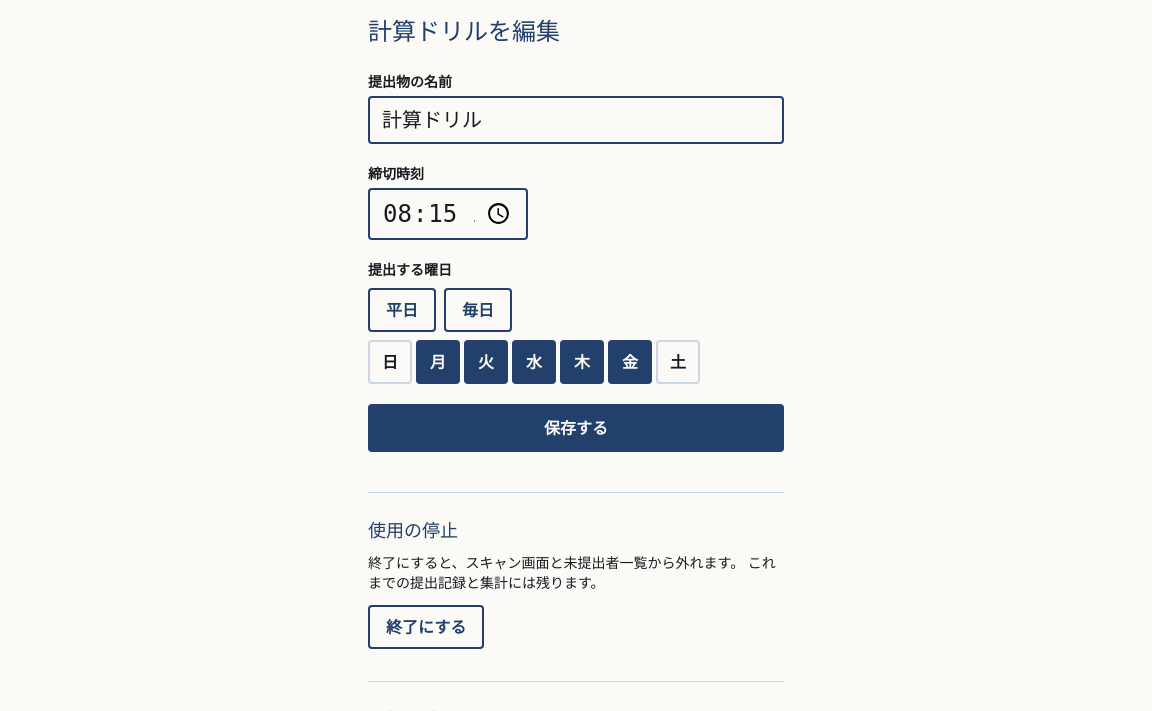
Test: 終了 › 確認してから終了にする
This screenshot has width=1152, height=711.
Click the button "終了にする" at (426, 627), box x1=368 y1=605 x2=484 y2=649
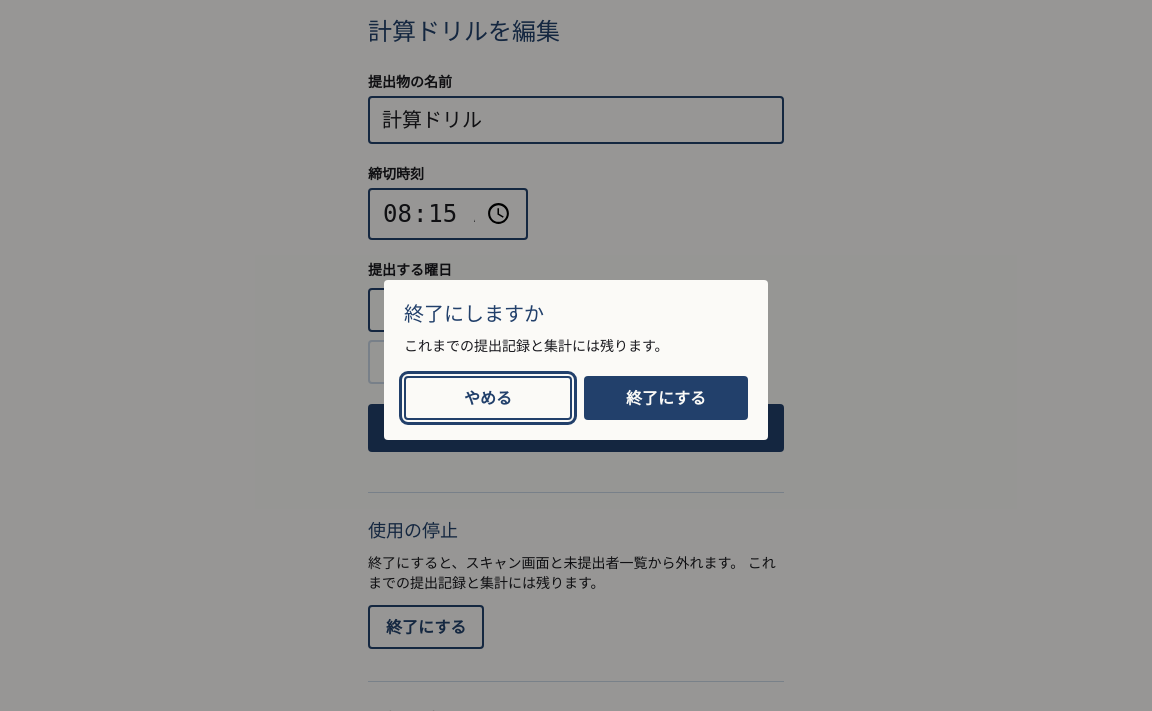
Note: 「終了にする」は画面とダイアログの両方にあるためダイアログ内に絞る
Click the button "終了にする" at (666, 398), box x1=584 y1=376 x2=748 y2=420
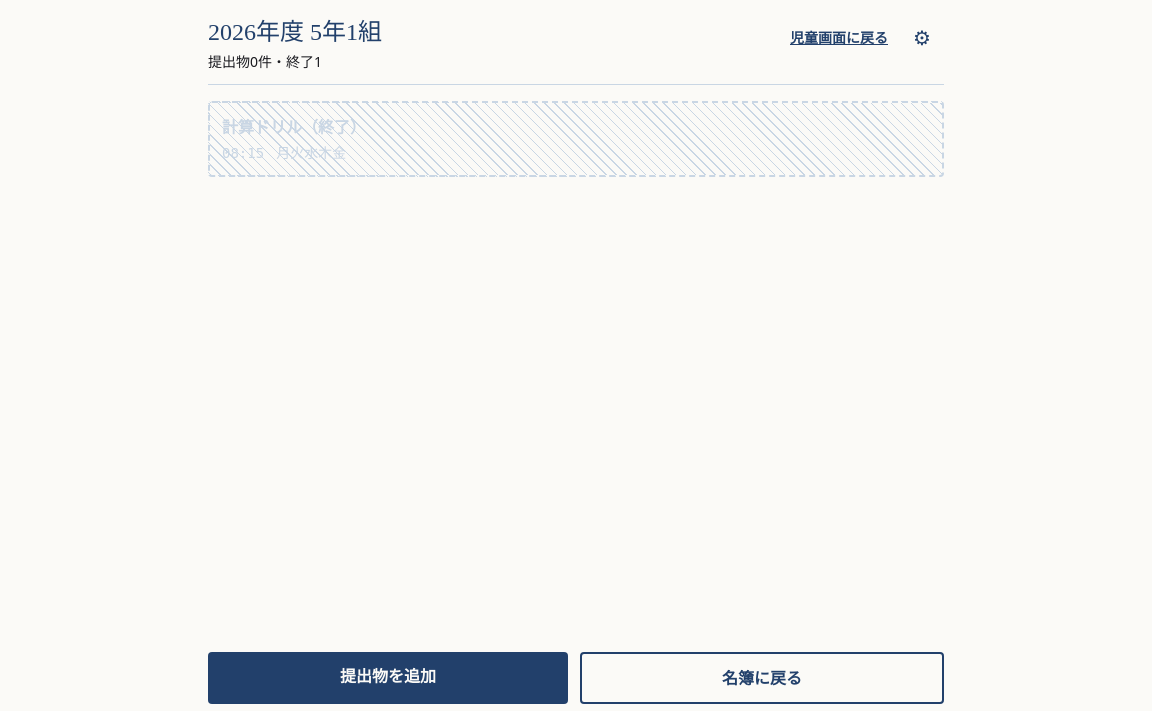
Now the text "提出物0件・終了1" is shown, box x1=208 y1=52 x2=322 y2=71
